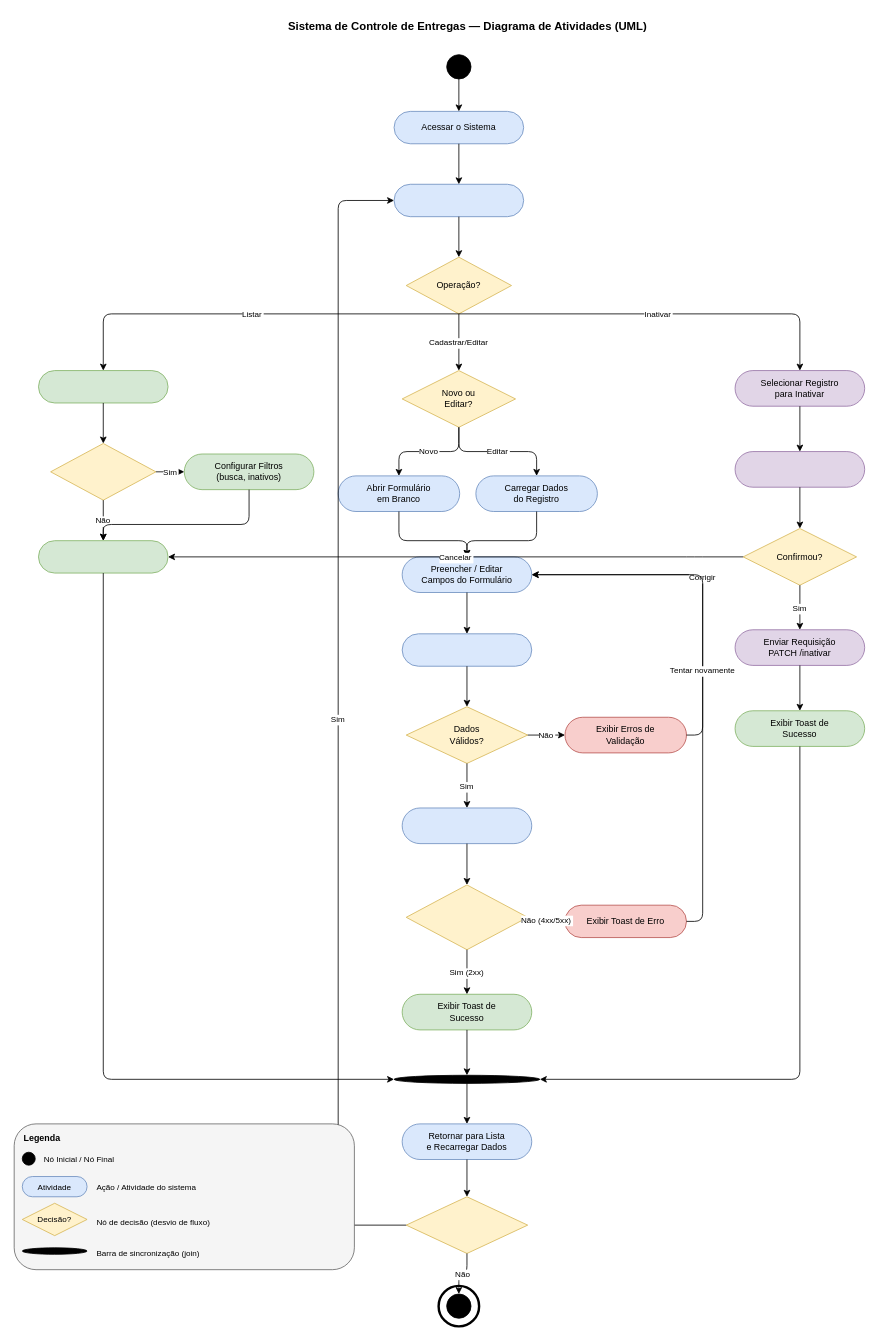
Some shapes in this 879 by 1341 pixel diagram are drawn without their labels. The box of each missing label's shape, as (x1, y1, x2, y2) in pixels:
API Respondeu OK?: (405, 884, 528, 950)
Aplicar Filtros?: (50, 443, 156, 500)
Carregar Lista de Registros: (38, 370, 168, 403)
Continuar no Sistema?: (405, 1196, 528, 1253)
Enviar Requisição para API (POST/PUT): (401, 807, 532, 844)
Exibir Diálogo de Confirmação: (734, 451, 865, 487)
Exibir Lista com Paginação: (38, 540, 168, 573)
Selecionar Módulo de Cadastro: (393, 183, 524, 217)
Submeter Formulário: (401, 633, 532, 666)
